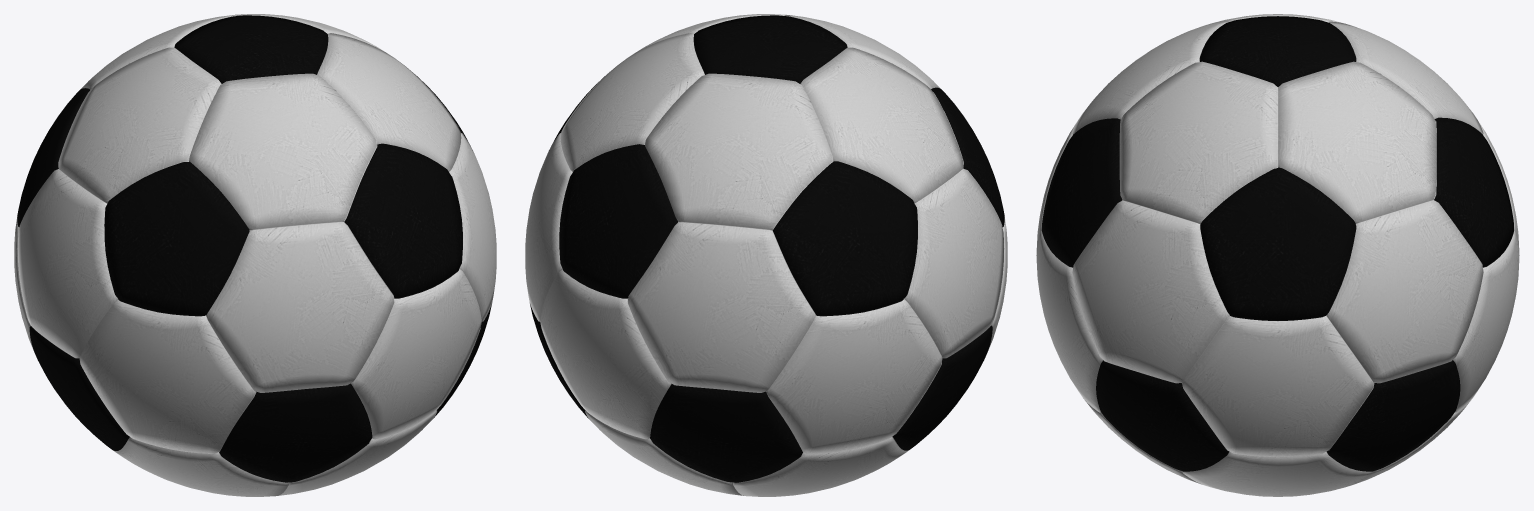
File: ball.gltf
3 renders of one model, left to right at view 1: azimuth 30°, elevation 25°; view 2: azimuth 150°, elevation 25°; view 3: azimuth 270°, elevation 25°, orthographic.
Parts seen in each view (by area): view 1: node-0; view 2: node-0; view 3: node-0.
Boxes of the visible parts, x1,y1,x2,y2 form: node-0: (14, 14, 496, 496); node-0: (525, 14, 1007, 496); node-0: (1036, 14, 1519, 496).
Bounding box in the file's own units: 1.47 × 1.47 × 1.47.
Materials: 2 (2 with a texture image).
